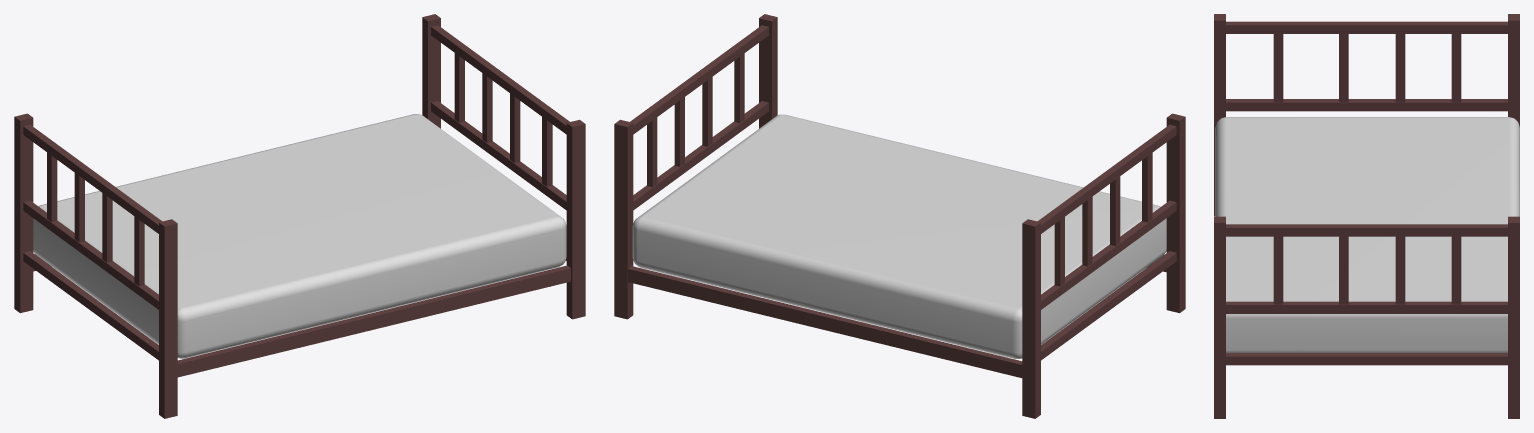
The model's file is bed1.obj.
3 views of the same model, side by side, from view 1: azimuth 30°, elevation 25°; view 2: azimuth 150°, elevation 25°; view 3: azimuth 270°, elevation 25° (orthographic).
Visible parts, largest first — view 1: bed1; view 2: bed1; view 3: bed1.
Boxes of the visible parts, <box> form: bed1: <box>14,14,585,418</box>; bed1: <box>614,14,1185,418</box>; bed1: <box>1214,14,1519,418</box>.
Bounding box in the file's own units: 2.92 × 1.27 × 1.8.
